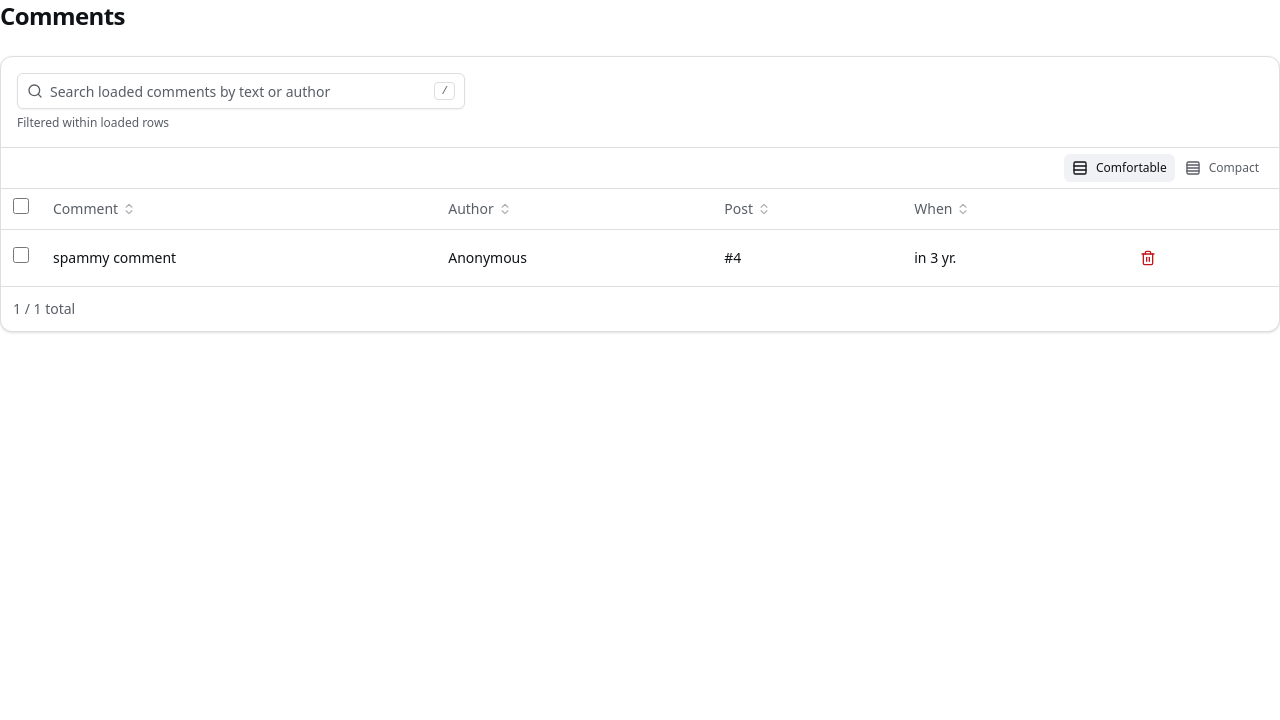
Test: CommentsPage › lists and deletes with confirmation
Expected: the text "spammy comment" is shown, [53,248,176,266]
What coordinates should you click on to do the following:
click the button named "Delete: #1"
I would click on:
 (1148, 258)
Its box is [1130,240,1166,276].
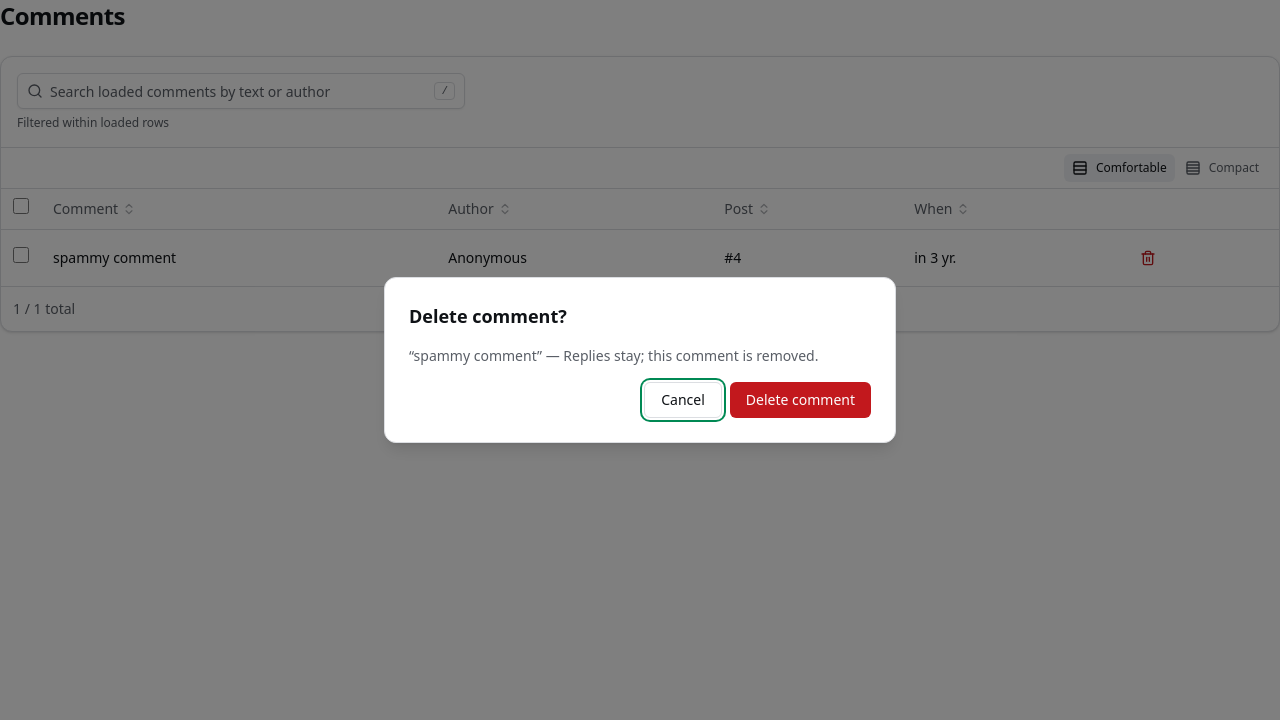
What coordinates should you click on to do the following:
click the button "Delete comment"
I would click on:
 (800, 400)
Its box is [730,382,871,418].
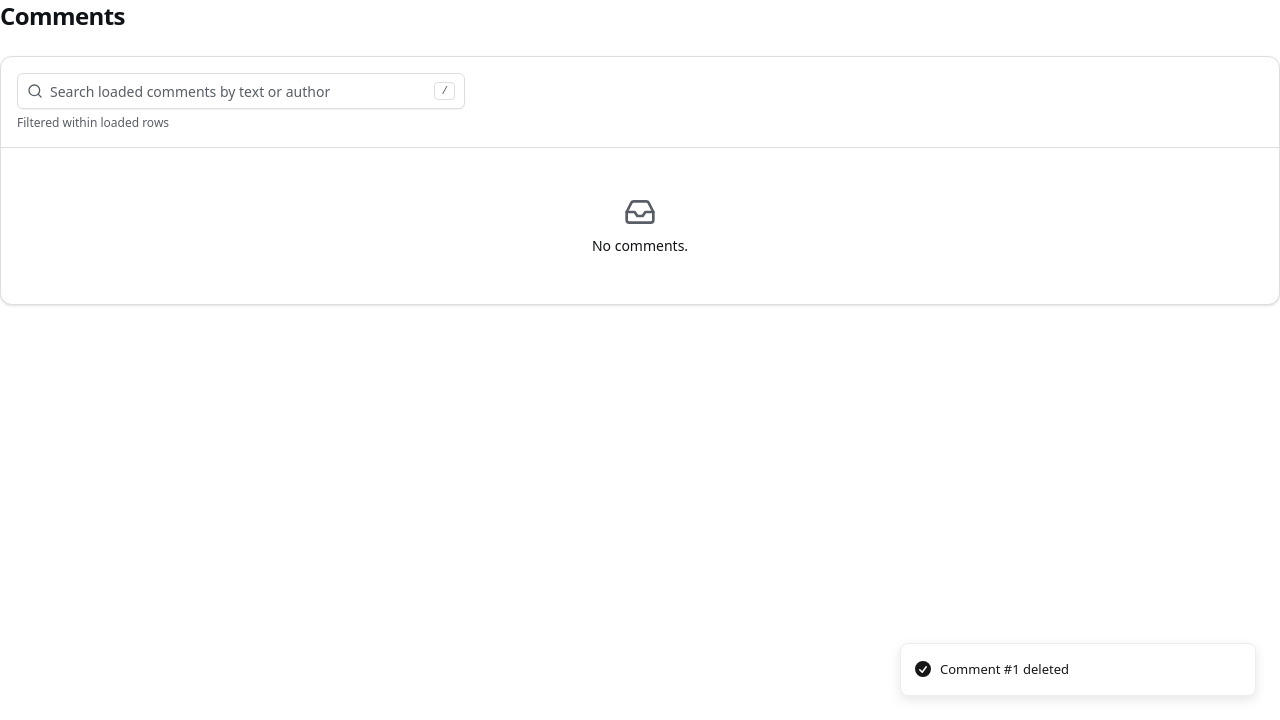
Now the text "No comments." is shown, box [592,236,688,256]
Now the text "Comment #1 deleted" is shown, box [940,660,1069,679]
